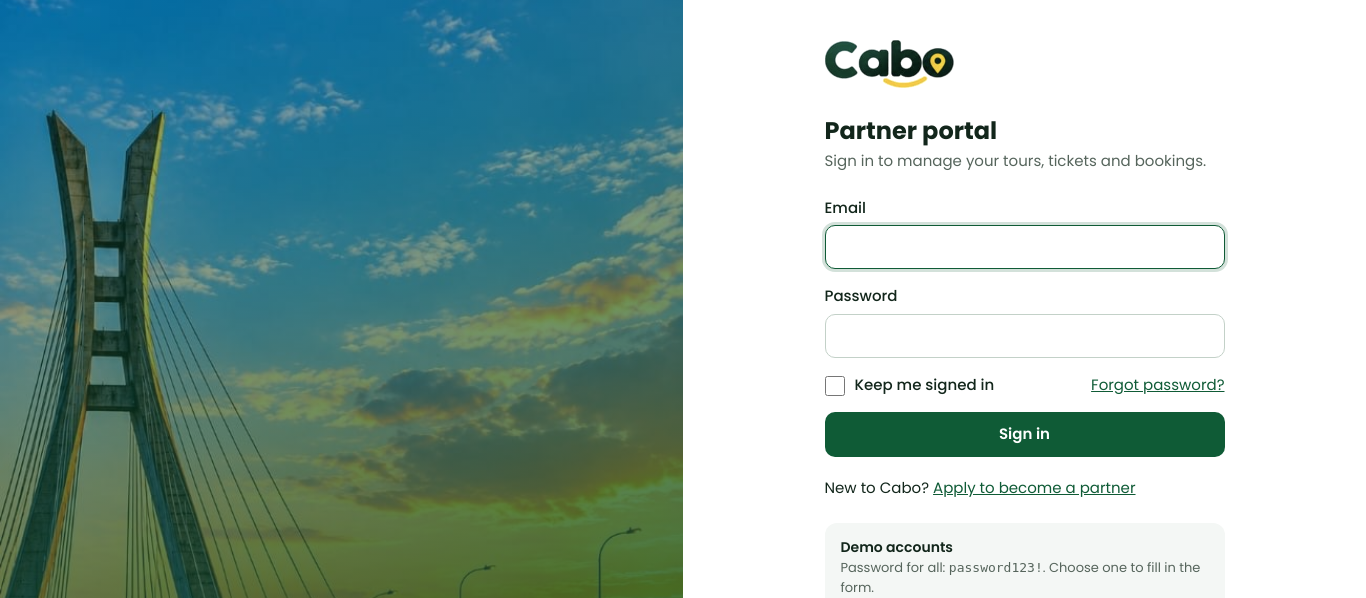
Test case: the portal › shows an error for a wrong password
The image size is (1366, 598).
In the field labelled "Email": (1024, 247) [824,225,1224,269], type "adaeze@ekonaturetrails.ng"
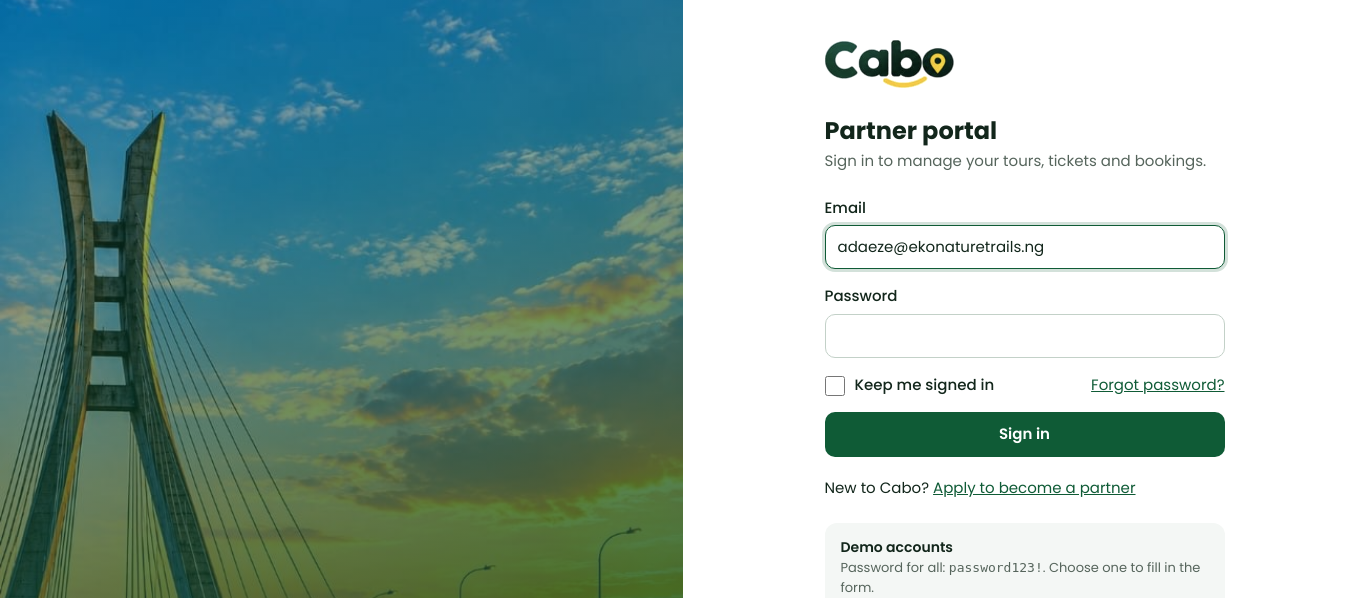
In the password field labelled "Password": (1024, 336) [824,314,1224,358], type "wrong-password"
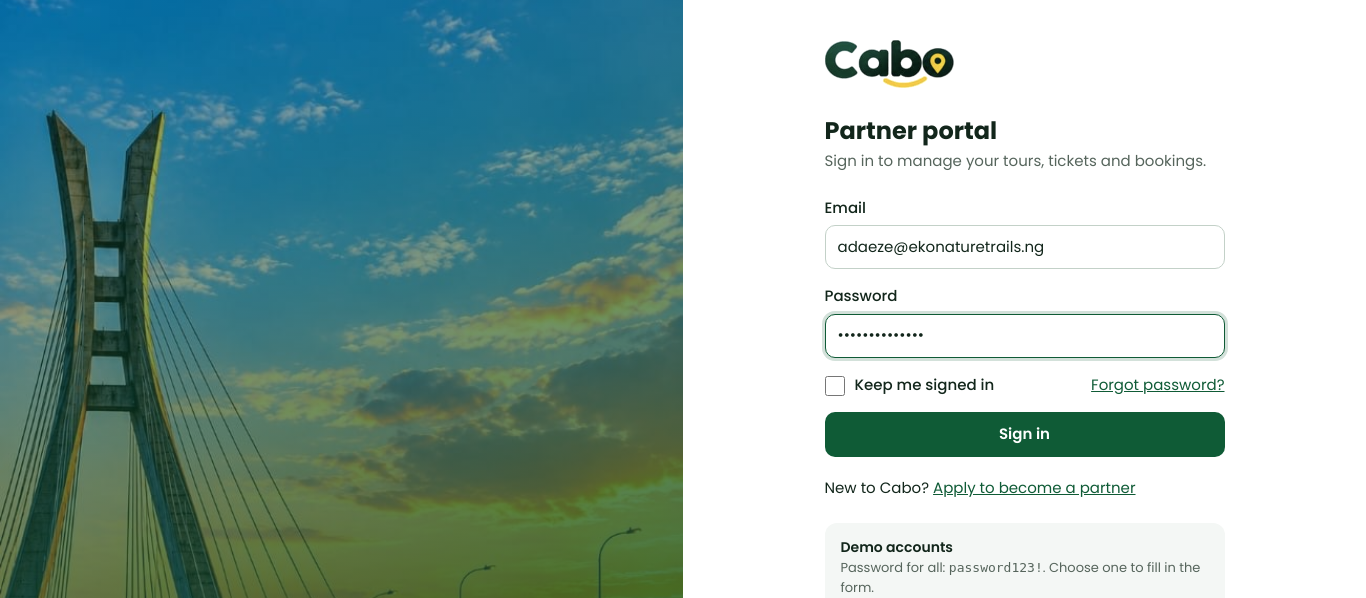
Click the button "Sign in": (1024, 434) [824,412,1224,456]
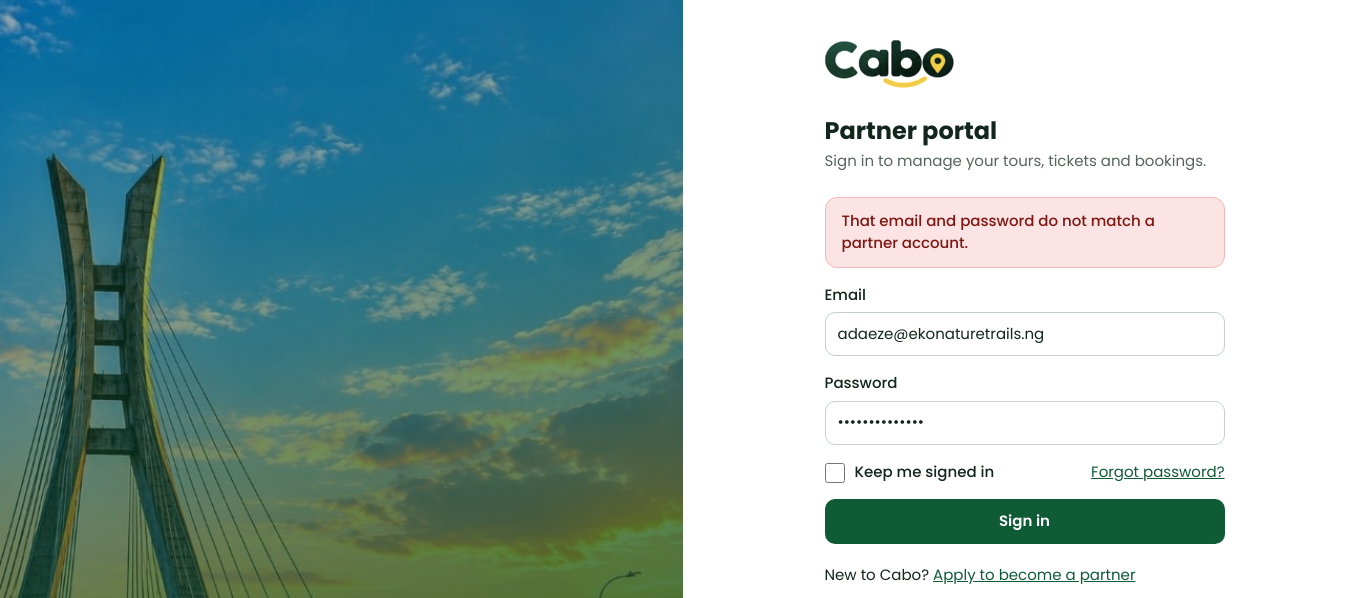
Now the message shows "do not match", box [842,210,1155,253]
